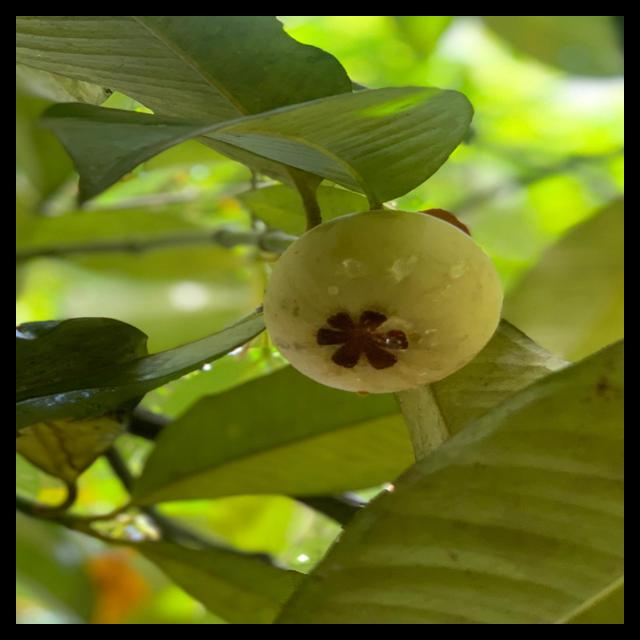mangosteen: (242, 137, 520, 437)
